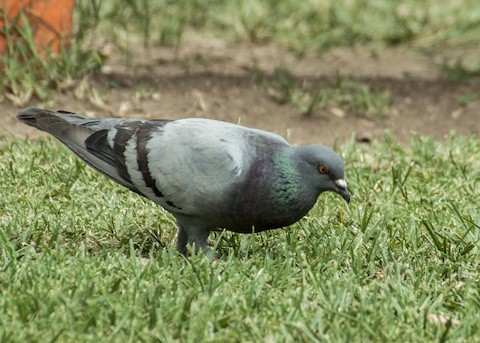pigeon: (14, 102, 357, 264)
